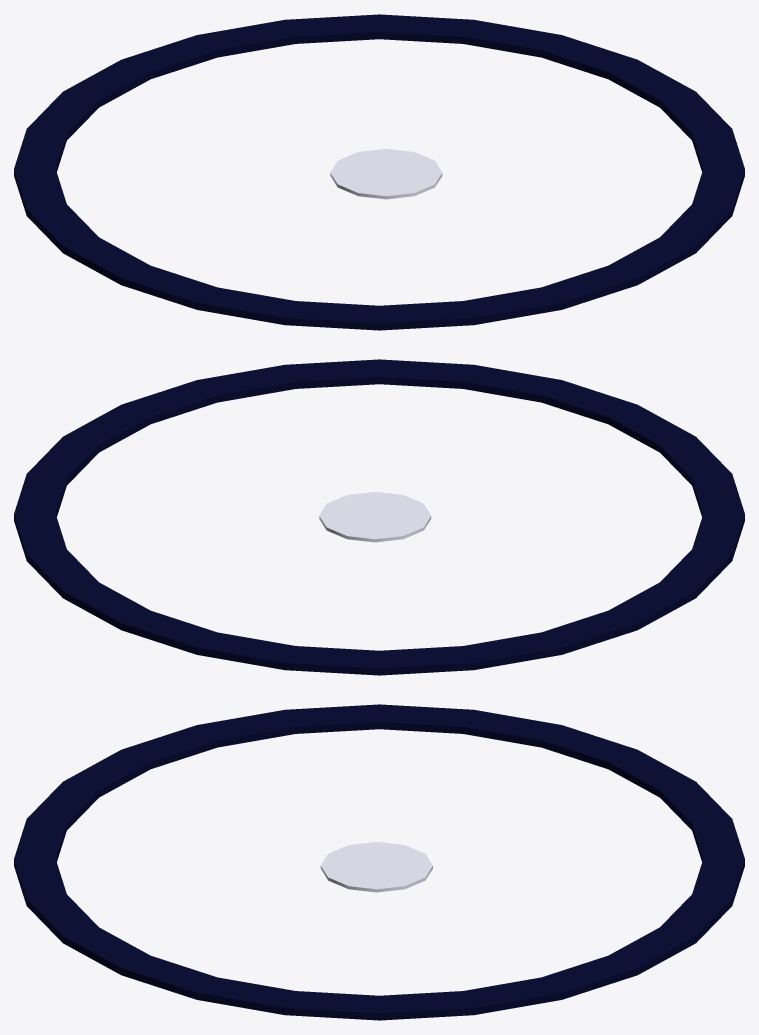
File: Cutscene_floor.fbx
The picture shows the model from 3 angles, top to bottom: view 1: azimuth 30°, elevation 25°; view 2: azimuth 150°, elevation 25°; view 3: azimuth 270°, elevation 25°; orthographic projection.
Visible parts, largest first — view 1: Shape001; view 2: Shape001; view 3: Shape001.
Boxes of the visible parts, x1=… form: Shape001: x1=14, y1=14, x2=744, y2=330; Shape001: x1=14, y1=359, x2=744, y2=675; Shape001: x1=14, y1=704, x2=744, y2=1020.
Size of the model in its own units: 261 by 2.83 by 261.
